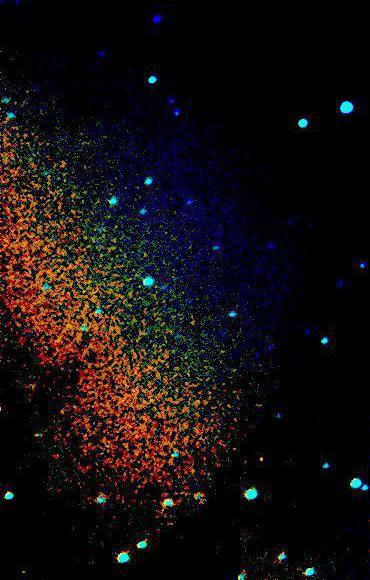star: (246, 444, 276, 474)
